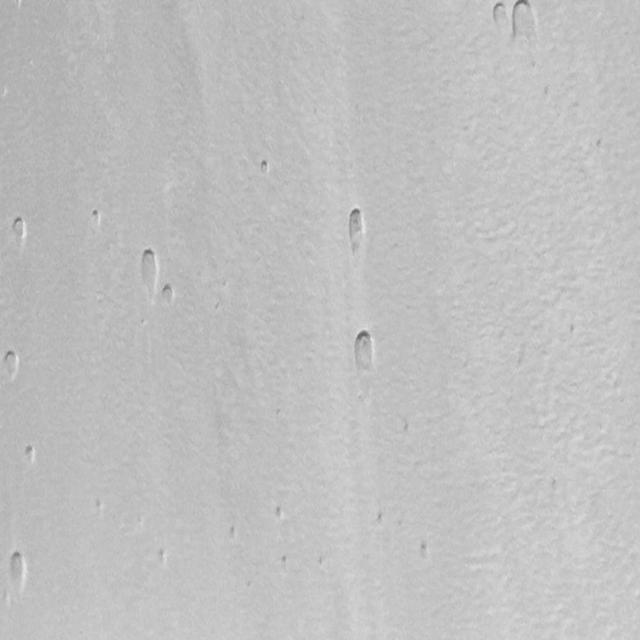pin holes: (342, 204, 372, 262), (510, 0, 545, 48), (352, 328, 383, 377), (135, 246, 162, 294), (4, 549, 31, 595), (488, 1, 514, 37), (9, 214, 32, 248), (0, 345, 21, 381), (416, 538, 434, 564), (159, 283, 176, 307), (22, 442, 39, 466), (256, 156, 274, 178), (90, 209, 104, 229), (272, 504, 286, 522), (156, 548, 169, 567), (94, 496, 104, 520), (314, 554, 328, 570), (227, 524, 240, 541), (278, 553, 291, 570), (375, 511, 388, 528)
